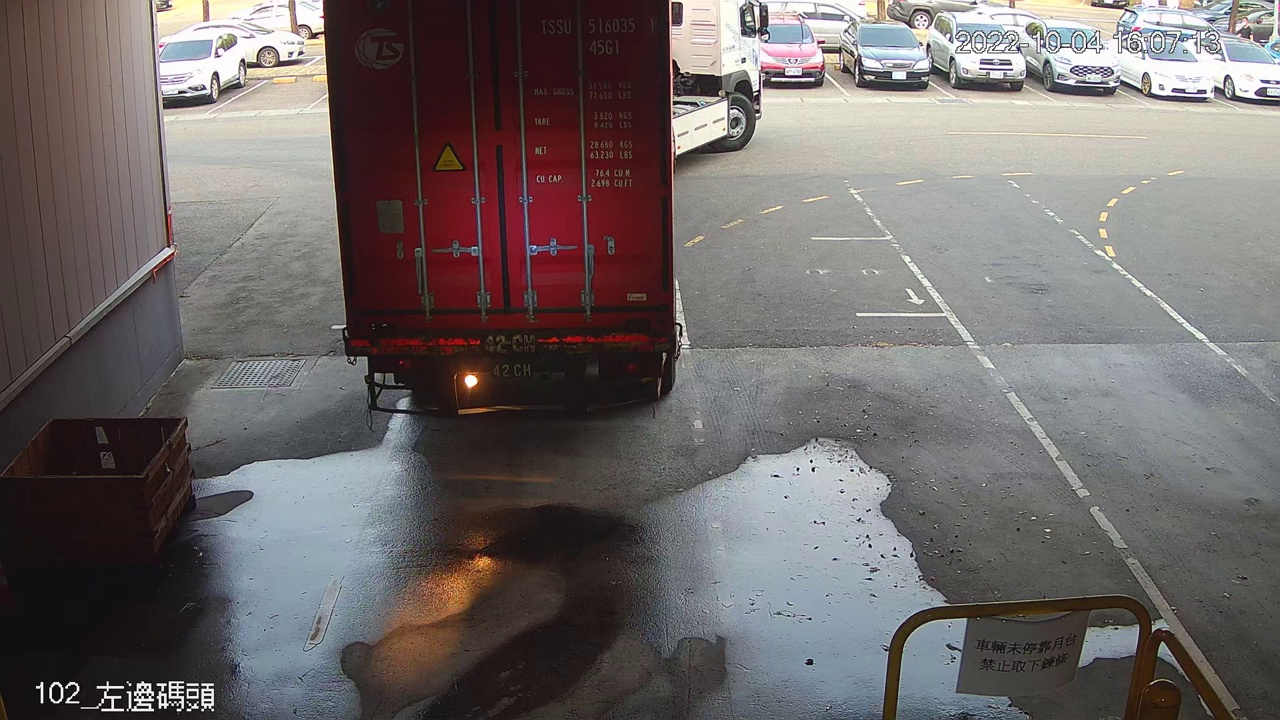container: (535, 13, 662, 60)
